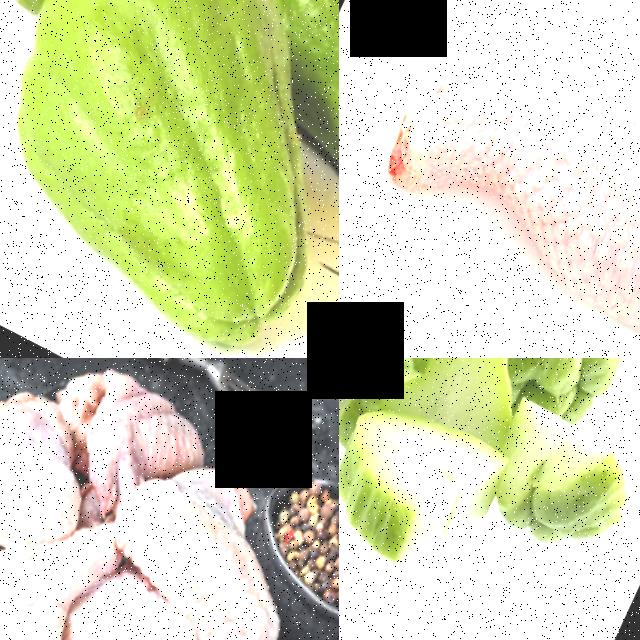chayote: (0, 0, 339, 358)
chicken thigh: (339, 0, 640, 358)
chicken wing: (0, 432, 339, 640), (0, 358, 104, 640)
